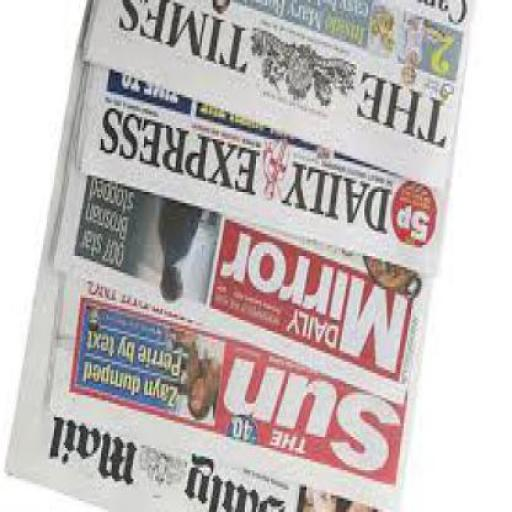paper: (5, 97, 385, 511), (52, 206, 417, 512), (54, 123, 426, 406), (79, 47, 448, 279), (86, 3, 470, 195)
